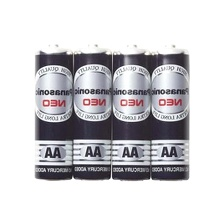battery: (146, 42, 193, 182), (32, 39, 77, 183), (71, 38, 116, 182), (108, 40, 153, 183)
